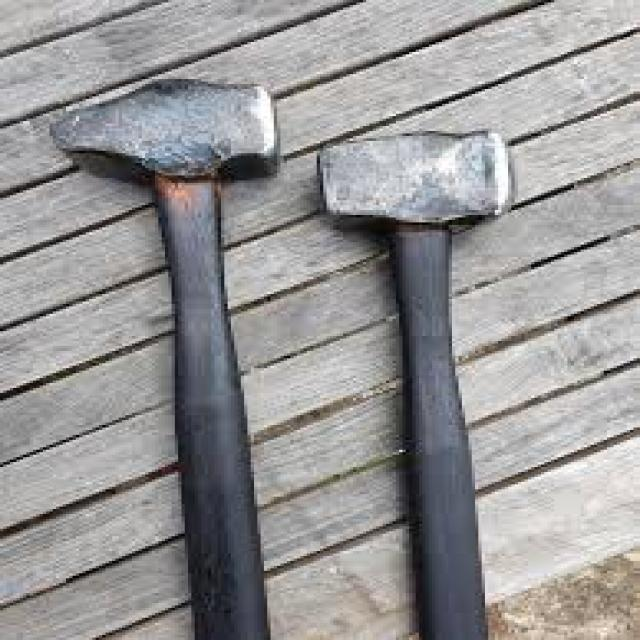hammer: (38, 52, 292, 640), (304, 89, 534, 640)
